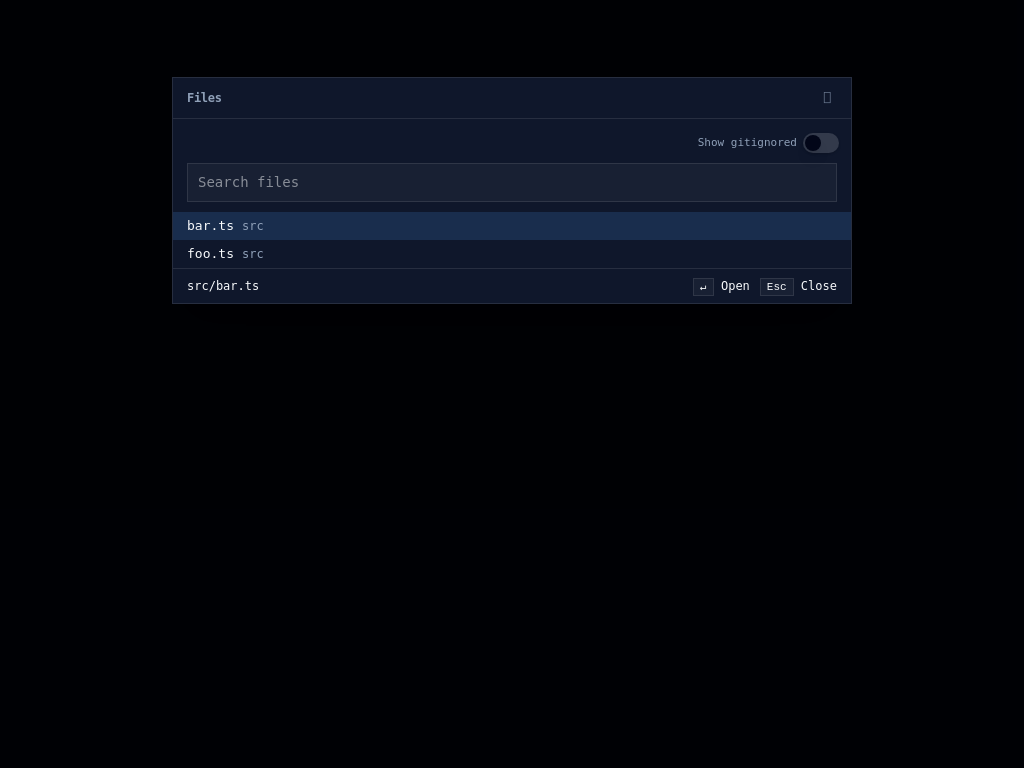
Test case: FilesOverlay — search › restores the full list when the query is cleared
The image size is (1024, 768).
Expected: the text "foo.ts" is shown, [187, 244, 234, 264]
Type "foo" into the field with placeholder "Search files". click: [512, 182]
box: [187, 163, 837, 202]
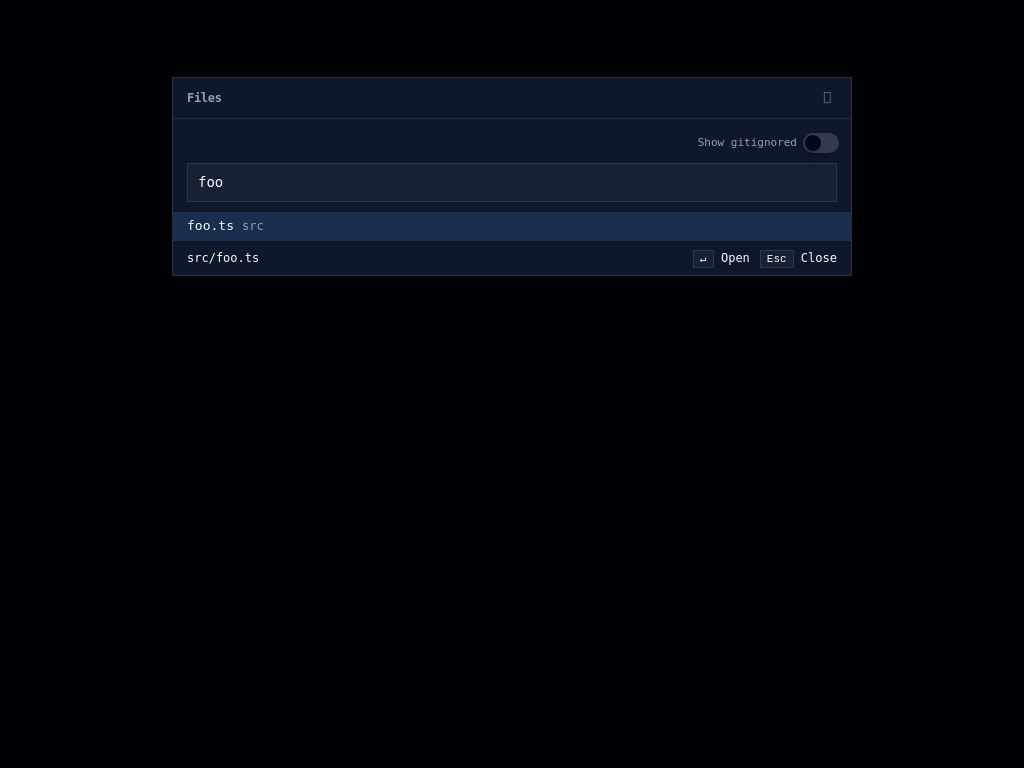
Result: the text "bar.ts" is gone
Clear the field with placeholder "Search files". click: [512, 182]
box: [187, 163, 837, 202]
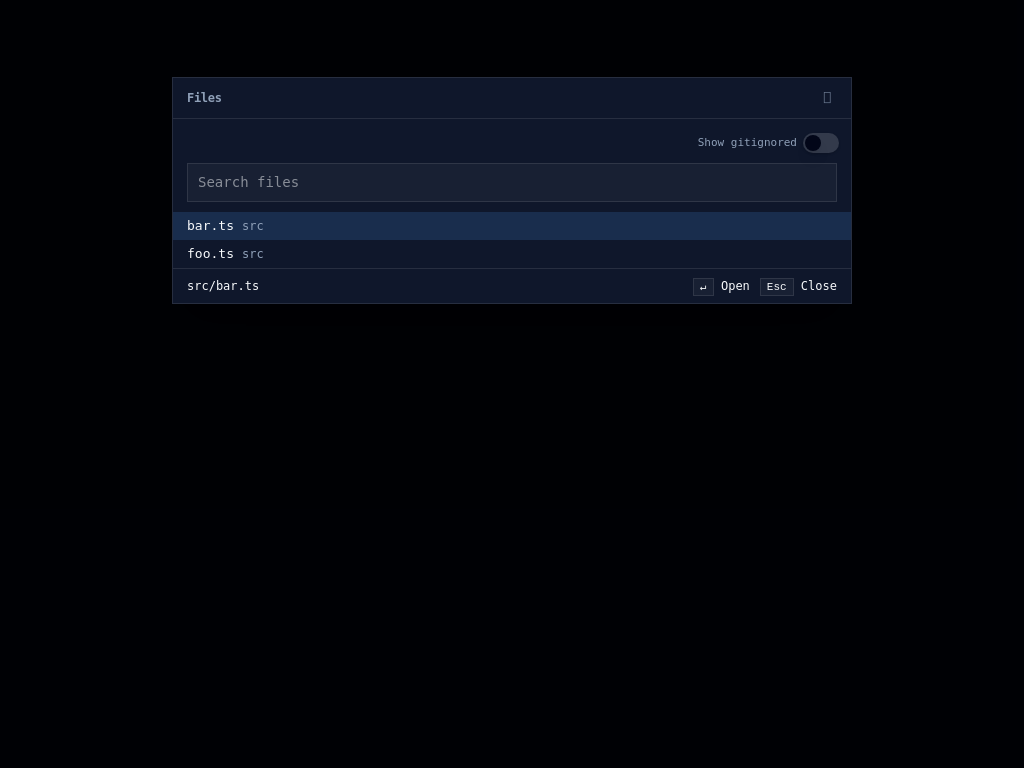
Result: the text "bar.ts" is shown at [187, 216, 234, 236]
